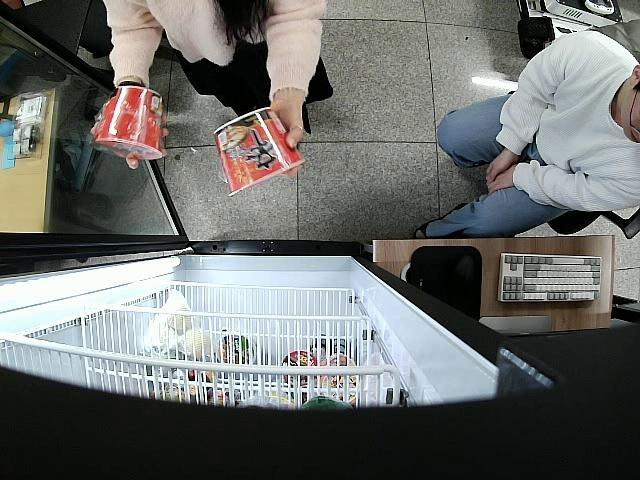01_ShinRamen_L: (212, 106, 305, 197), (98, 86, 164, 160)
